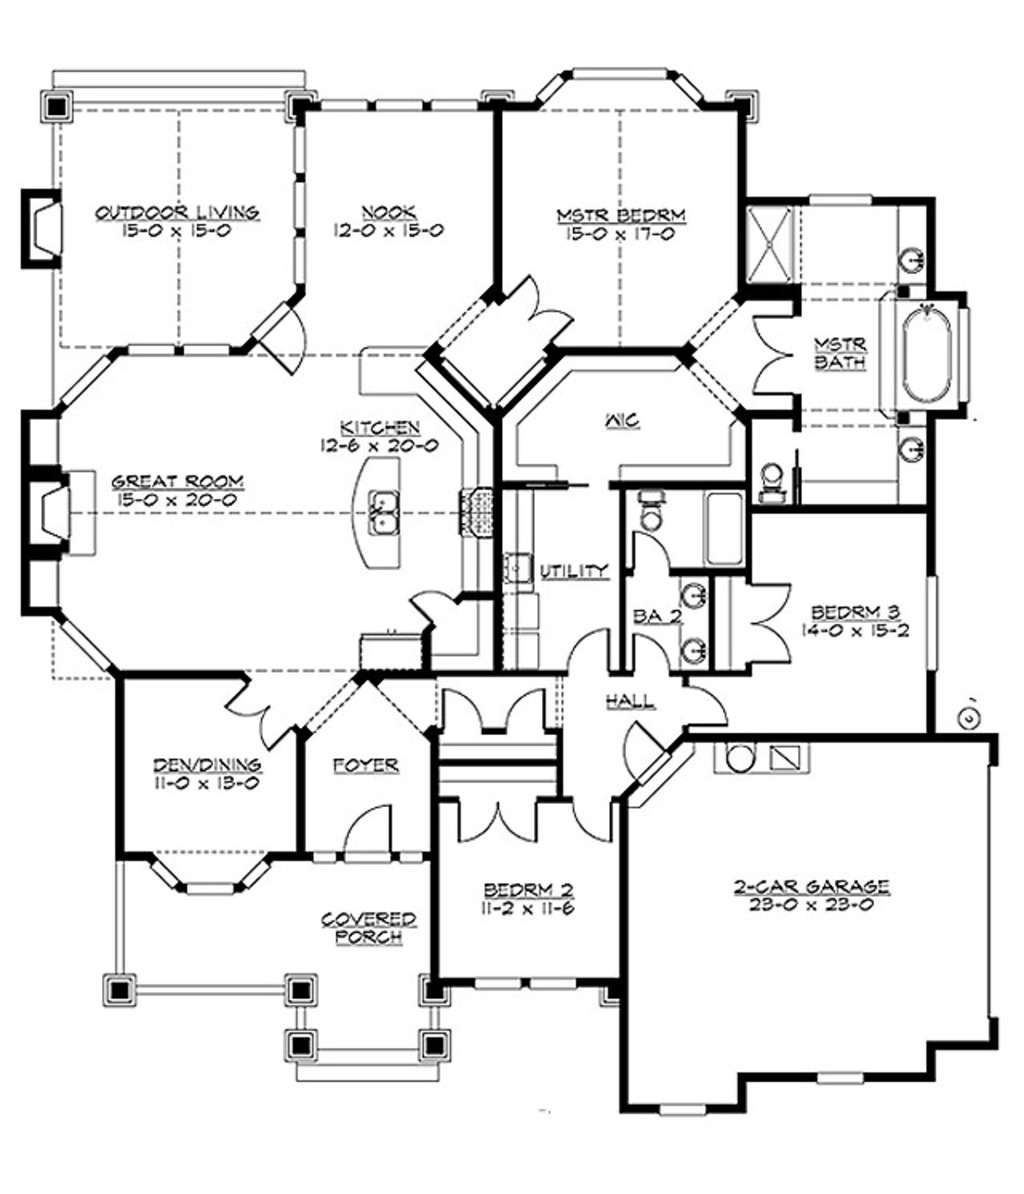door: (500, 274, 587, 353), (213, 683, 300, 755), (241, 305, 323, 377), (447, 796, 550, 850), (743, 305, 799, 403), (743, 579, 795, 674), (610, 720, 678, 792), (332, 805, 402, 866), (558, 794, 621, 857), (626, 627, 686, 688), (626, 529, 687, 581), (558, 625, 615, 679), (430, 688, 486, 742), (500, 692, 556, 744), (680, 675, 730, 731), (408, 579, 458, 631)
kitchen_bar: (332, 435, 412, 572)
large_sink: (621, 487, 686, 542), (752, 453, 795, 511)
small_sink: (895, 418, 937, 520), (676, 577, 715, 675), (895, 200, 932, 283)
tub: (878, 283, 986, 420), (693, 487, 752, 575)
twin_sink: (360, 483, 406, 548)
window: (47, 329, 237, 394), (525, 63, 732, 105), (141, 857, 278, 900), (25, 618, 123, 675), (286, 116, 310, 287), (799, 187, 880, 213), (317, 99, 475, 112)
